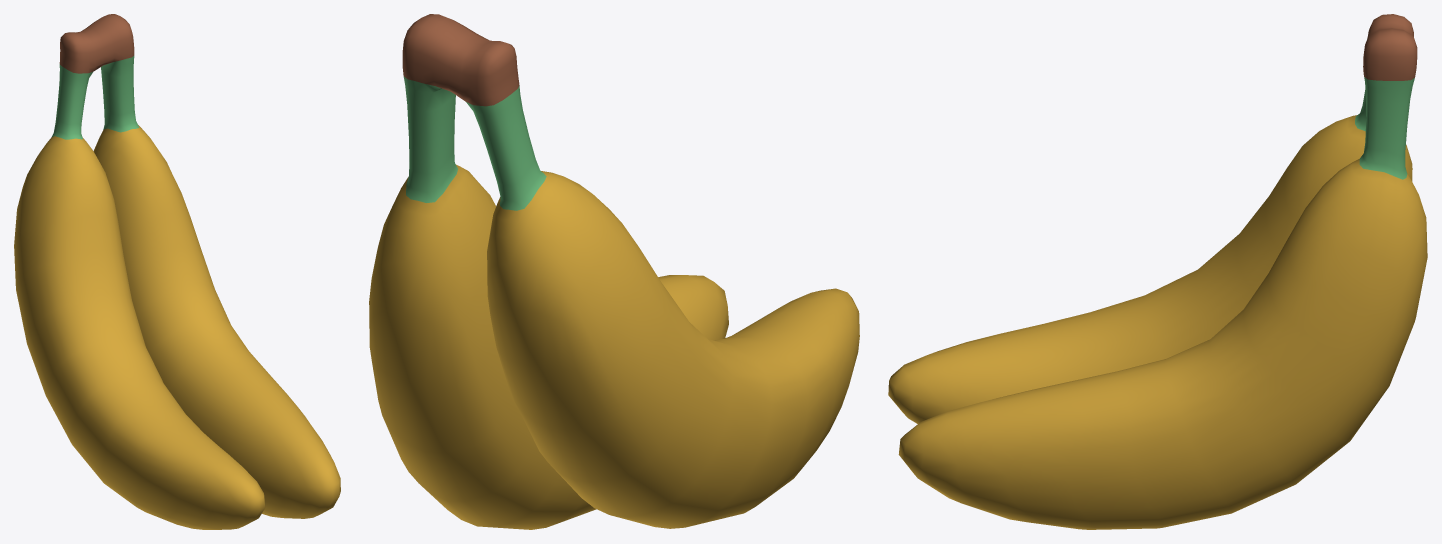
The model's file is Bananacomb_01.dae.
The picture shows the model from 3 angles, left to right: view 1: azimuth 30°, elevation 25°; view 2: azimuth 150°, elevation 25°; view 3: azimuth 270°, elevation 25°; orthographic projection. The views are drawn at different scales.
Visible parts, largest first — view 1: Bananacomb_01_LOD0; view 2: Bananacomb_01_LOD0; view 3: Bananacomb_01_LOD0.
Part boxes in pixels (x1,y1,x2,y2): Bananacomb_01_LOD0: (14,14,340,529); Bananacomb_01_LOD0: (369,14,859,529); Bananacomb_01_LOD0: (888,14,1427,529).
Size of what is drawn, in the model's own units: 3.04 by 6.16 by 6.08.
